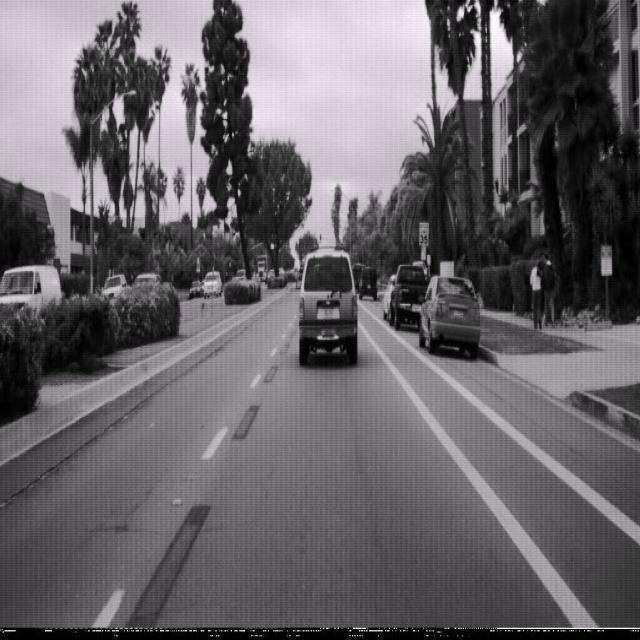speedLimit35: (418, 220, 429, 248)
